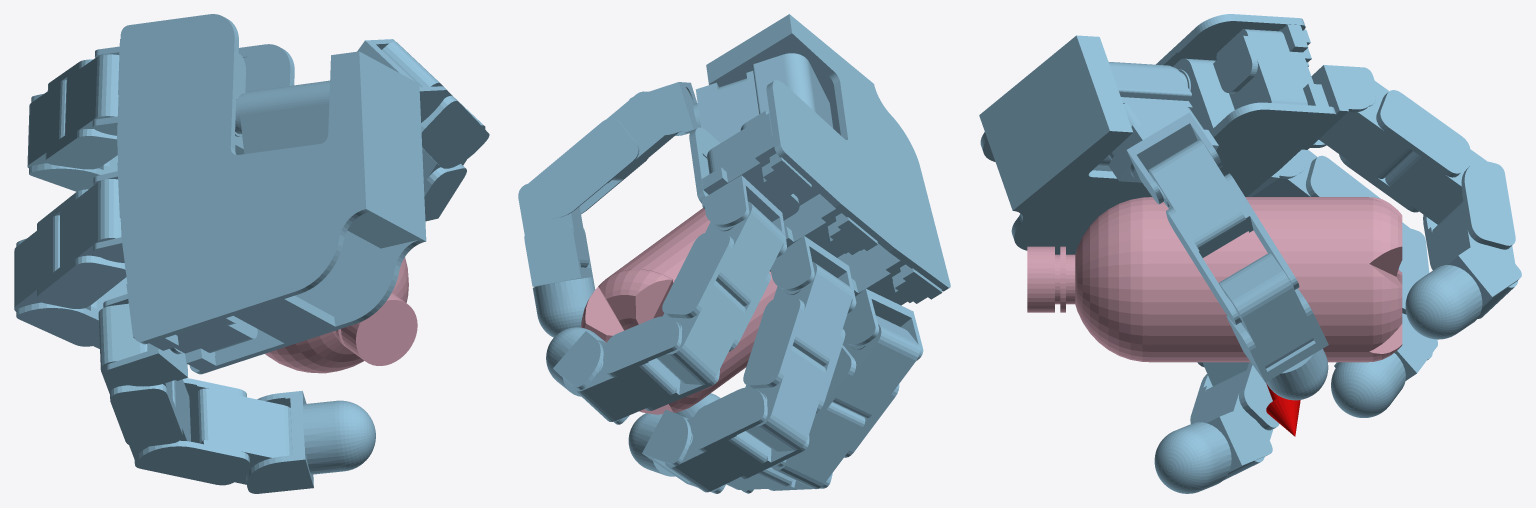
3 renders of one model, left to right at view 1: azimuth 30°, elevation 25°; view 2: azimuth 150°, elevation 25°; view 3: azimuth 270°, elevation 25°, orthographic. The views are drawn at different scales.
Parts seen in each view (by area): view 1: world, water_bottle.stl; view 2: world, water_bottle.stl; view 3: world, water_bottle.stl.
Part boxes in pixels (x1,y1,x2,y2): world: (14,14,489,493); water_bottle.stl: (265,257,417,373); world: (518,14,950,493); water_bottle.stl: (581,208,777,414); world: (979,14,1521,493); water_bottle.stl: (1027,197,1402,362).
Size of the model in its own units: 0.1635 by 0.1834 by 0.1976.
